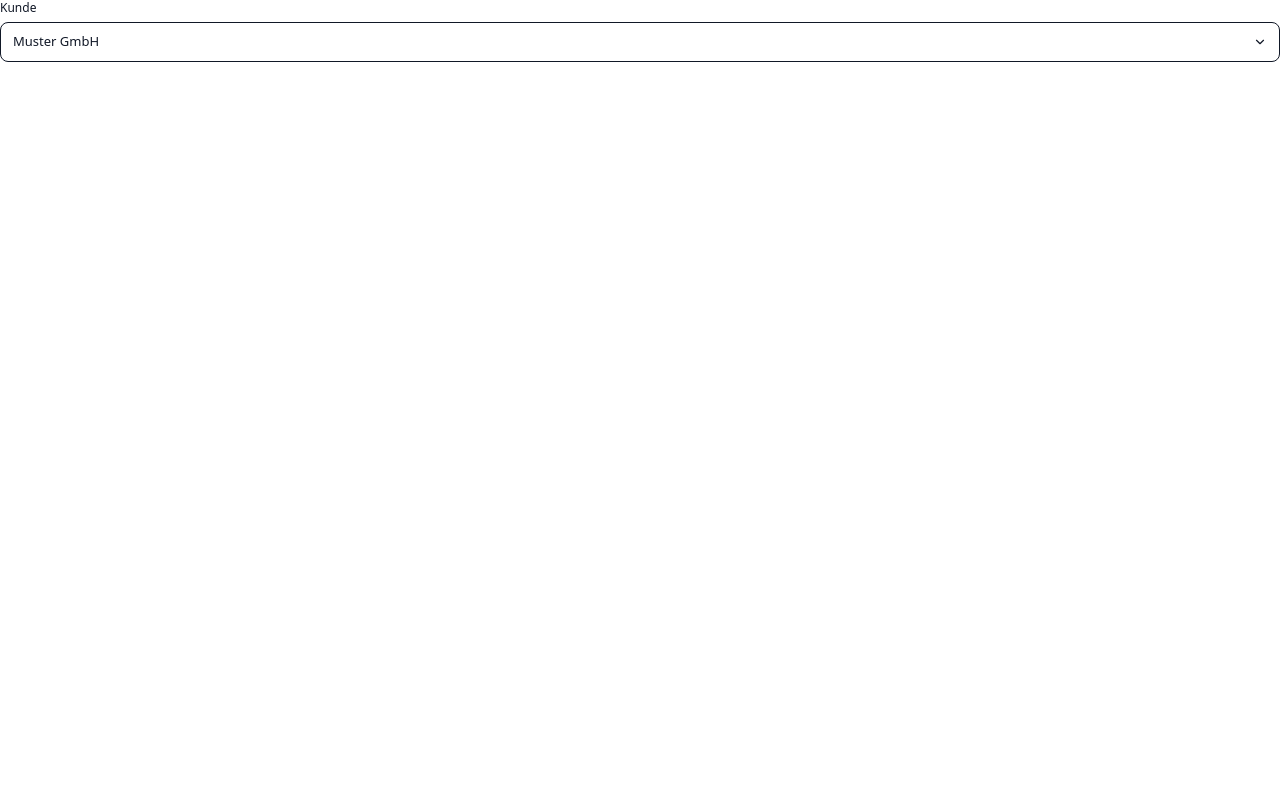
PremiumCombobox › closes on Escape
Later steps or results of the test are not shown.
Click the dropdown named "Kunde" at (56, 41), box [0,22,1279,62]
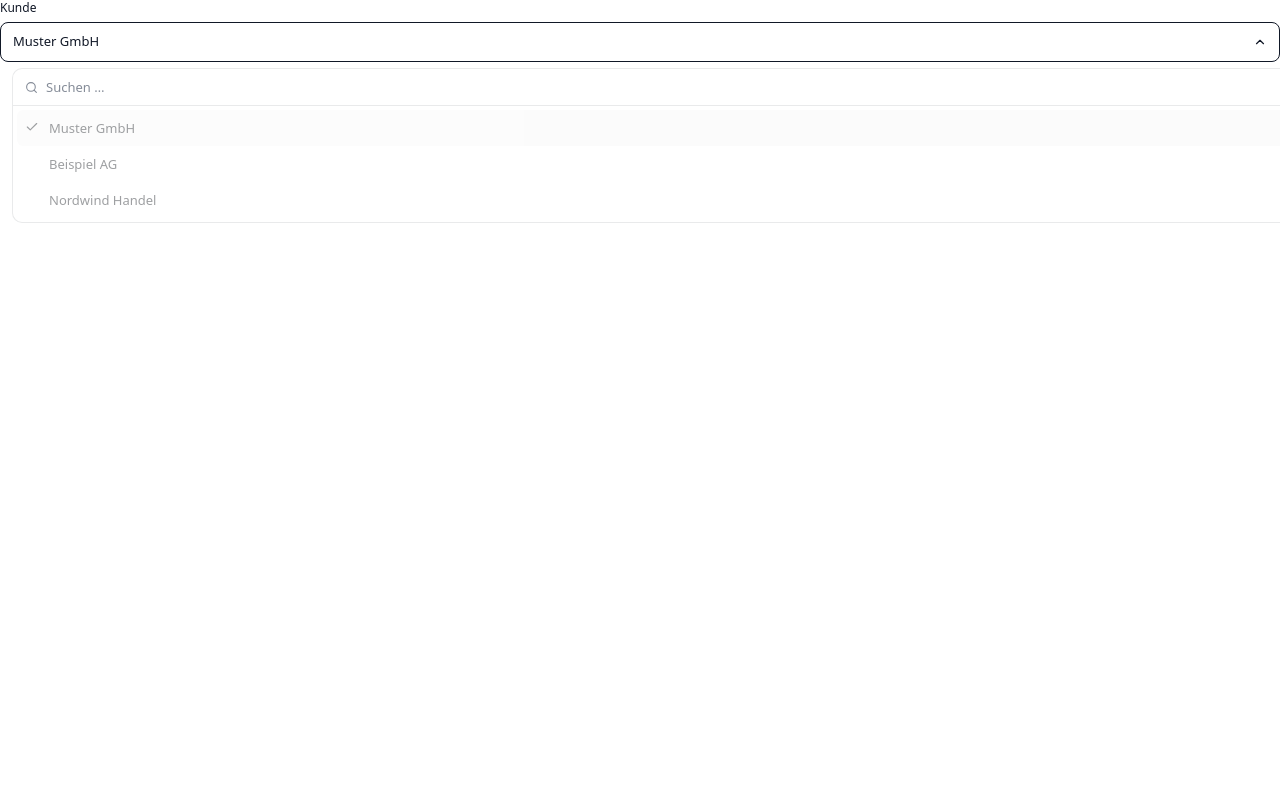
Expected: the dropdown with placeholder "Suchen …" is shown, [46,69,1279,105]
